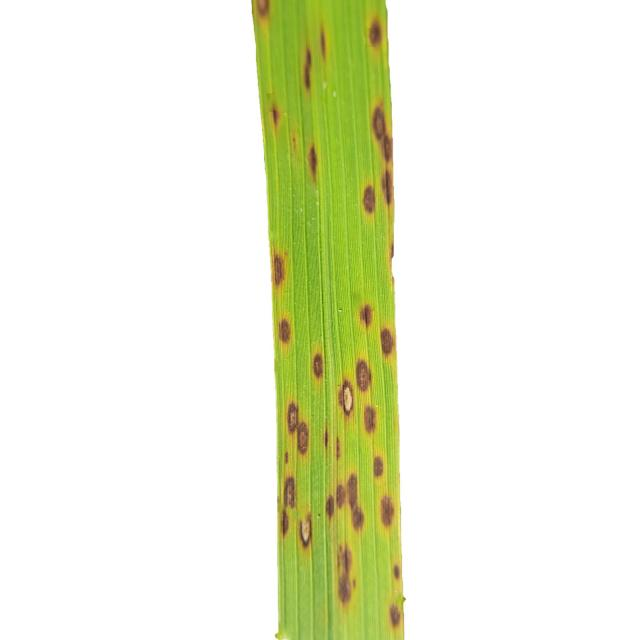Brown spot: (324, 469, 370, 529), (375, 94, 396, 224), (281, 473, 314, 554), (326, 535, 358, 608), (282, 400, 314, 464), (354, 7, 384, 55), (320, 418, 350, 466), (274, 308, 304, 352), (271, 238, 294, 294), (316, 19, 342, 68), (300, 36, 315, 94), (361, 406, 386, 440), (384, 602, 406, 636), (266, 93, 284, 133), (334, 382, 354, 417), (366, 448, 386, 482), (306, 347, 324, 383), (356, 357, 374, 392), (306, 143, 322, 182), (354, 300, 378, 326), (376, 492, 394, 526), (380, 324, 394, 361), (252, 0, 274, 22), (390, 555, 405, 587), (362, 179, 372, 217)
